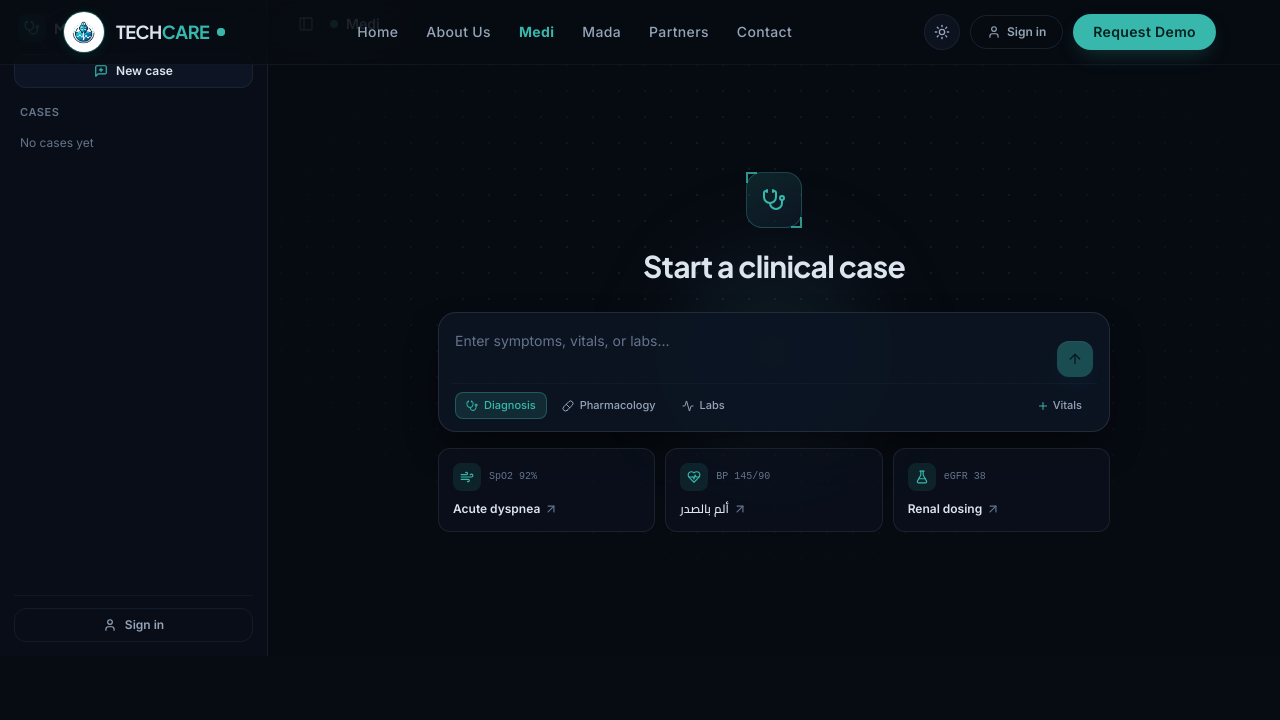
Test: TechCare 3D Storytelling Home & Product Flows › MediWorkspacePage supports native independent scroll, renders flagship canvas, sends Arabic query, and renders RTL Arabic response
This screenshot has width=1280, height=720.
Expected: the heading "Start a clinical case" is shown, [643,248,905,284]
Expected: the button "SpO2 92% Acute dyspnea" is shown, [438,448,655,532]
Click the button "Vitals" at (1059, 406), box [1026,392,1093,419]
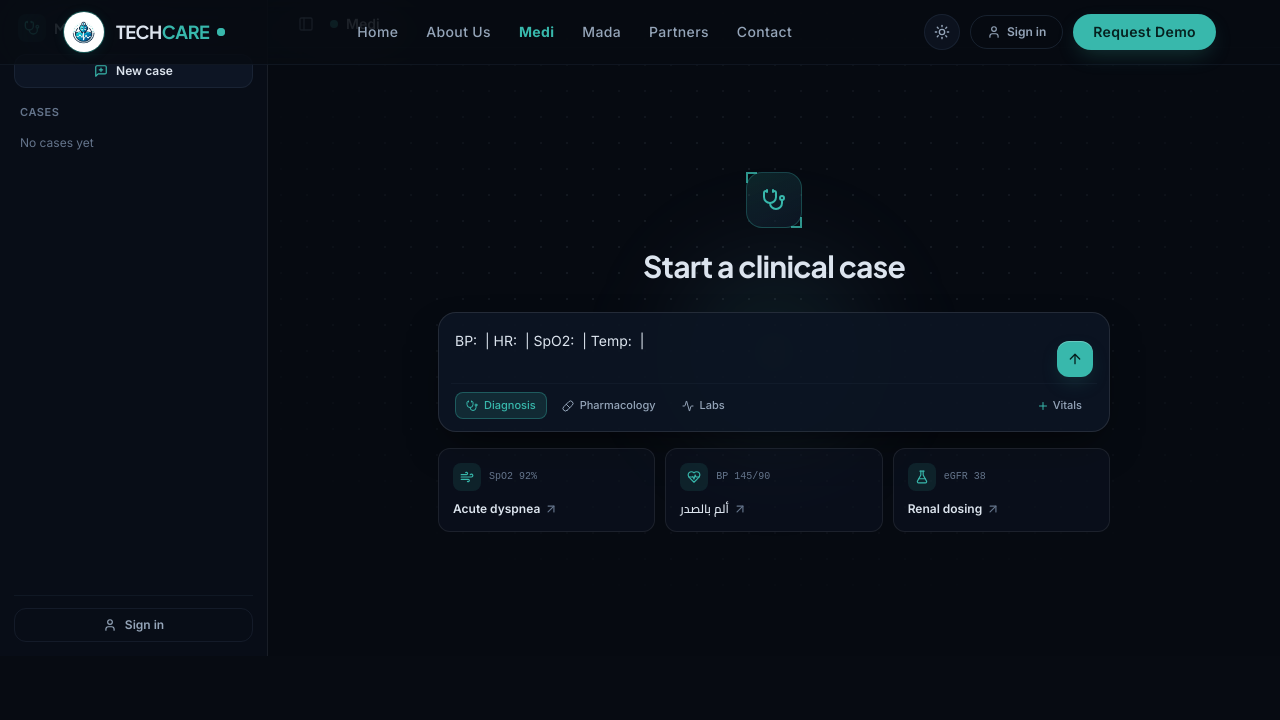
Replace the text in the text box with placeholder "Enter symptoms, vitals, or labs..." with "مريض يعاني من صداع شديد وارتفاع الضغط" at (752, 351), box [455,325,1049,377]
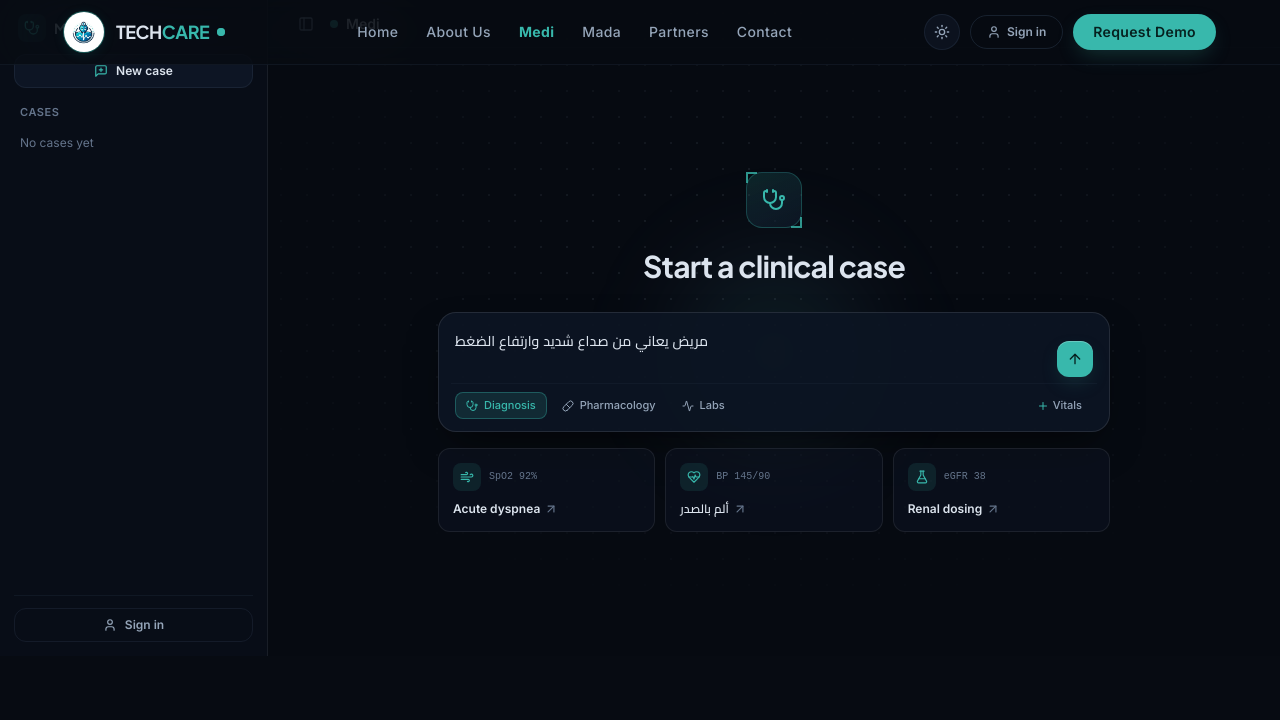
Click the button named "Send clinical case" at (1075, 359), box [1057,341,1093,377]
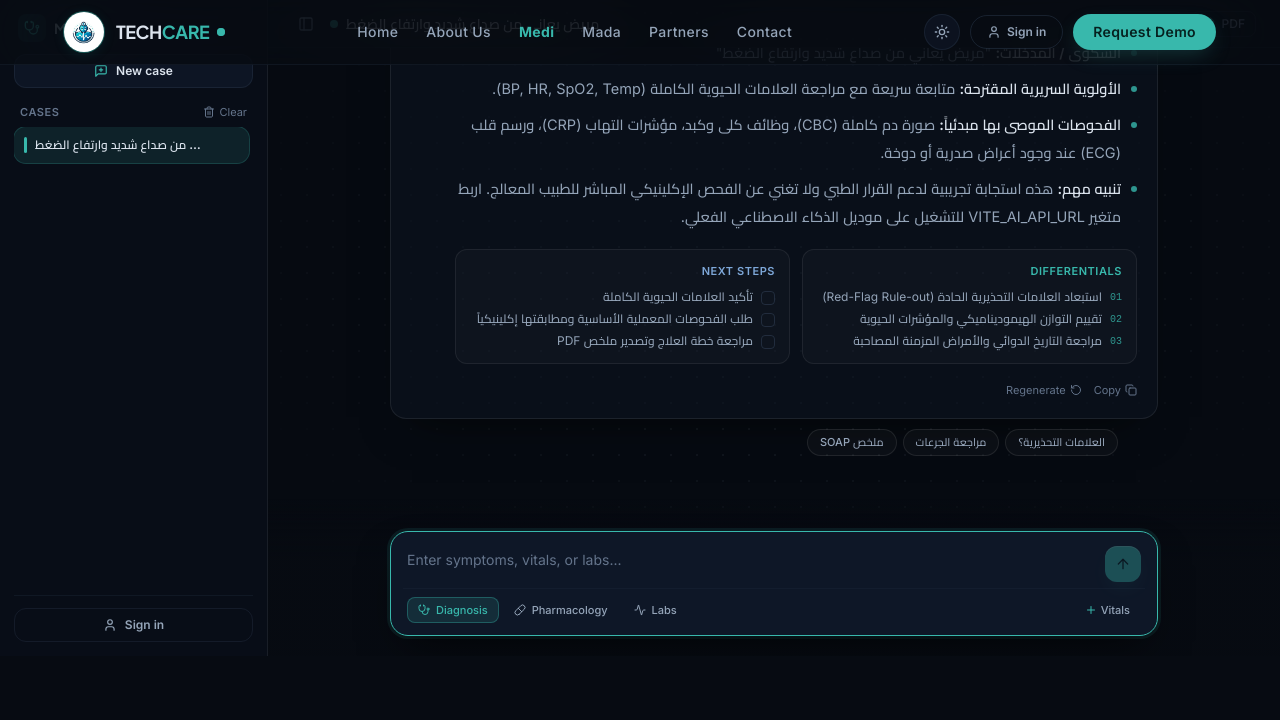
Expected: the button with aria-label "Copy response" is shown, [1094,382,1137,398]
Expected: the button with aria-label "Regenerate response" is shown, [1006,382,1082,398]
